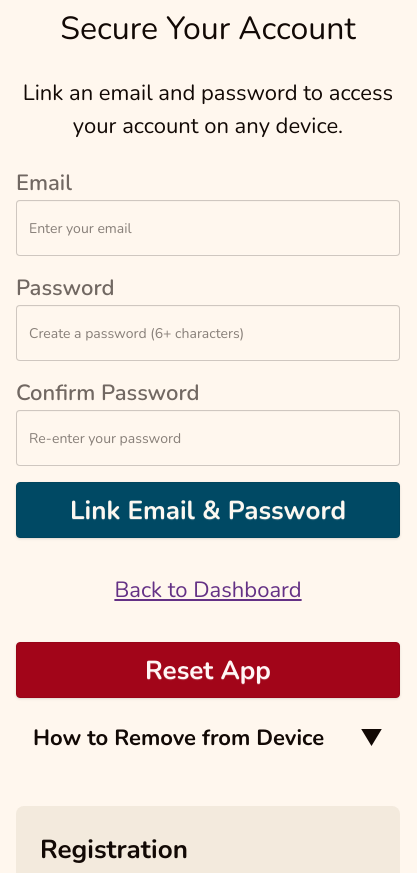
Scenario: CaregiverAccount › anonymous (not linked) › shows error for email already in use
Type "taken@example.com" into the field labelled "Email". click: coordinates (208, 228)
box: [16, 200, 400, 256]
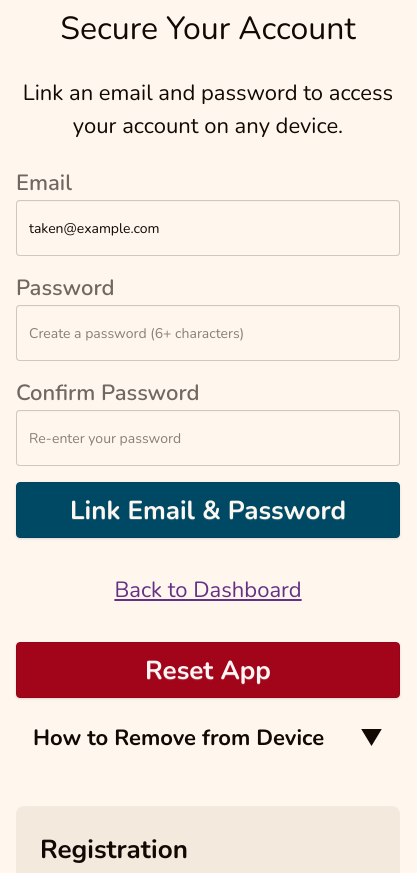
Type "password123" into the password field labelled "Password". click: coordinates (208, 333)
box: [16, 305, 400, 361]
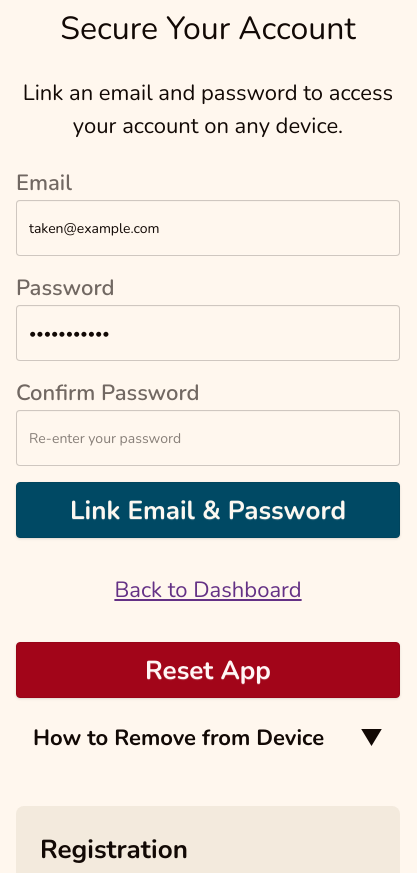
Type "password123" into the password field labelled "Confirm Password". click: coordinates (208, 438)
box: [16, 410, 400, 466]
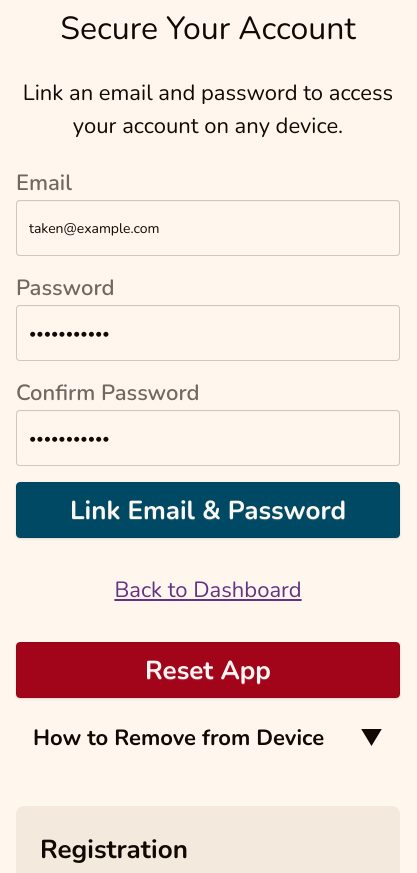
Click the button "Link Email & Password". click: coordinates (208, 510)
box: [16, 482, 400, 538]
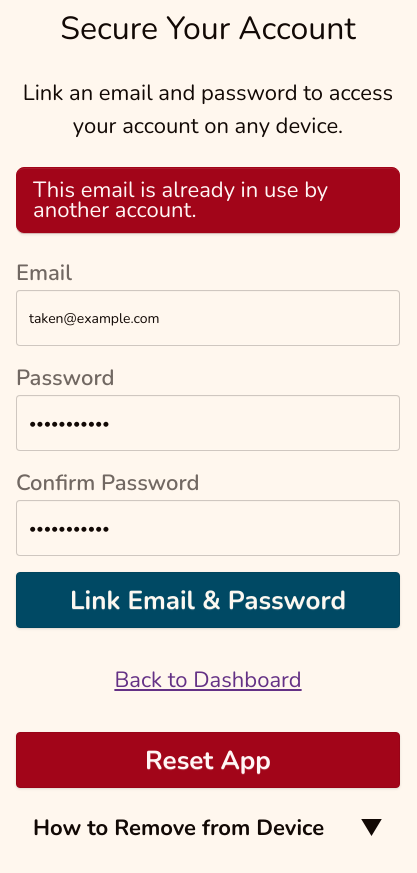
Result: the message shows "already in use" at [33, 175, 328, 225]
